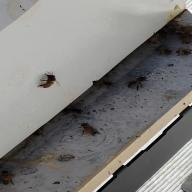Bee: (36, 72, 68, 92), (74, 121, 106, 139)
